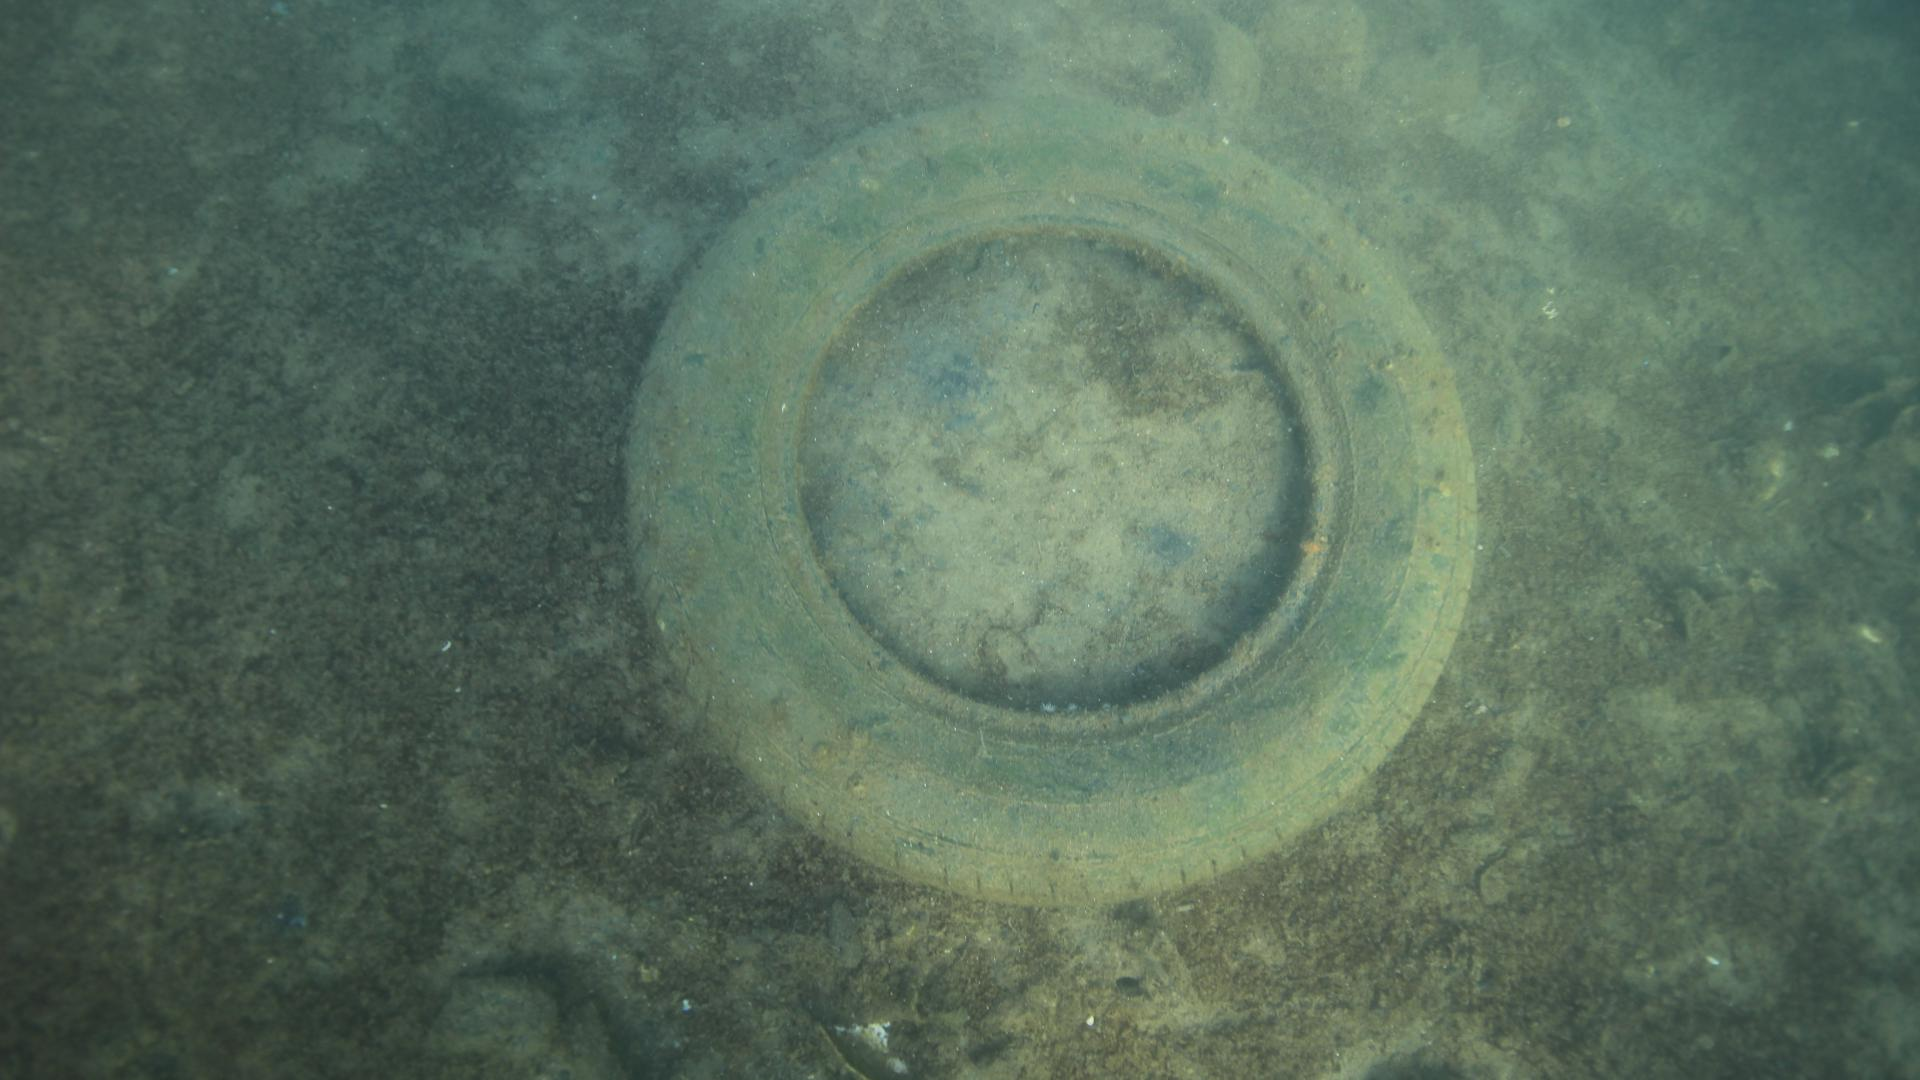tire: (620, 91, 1484, 910)
